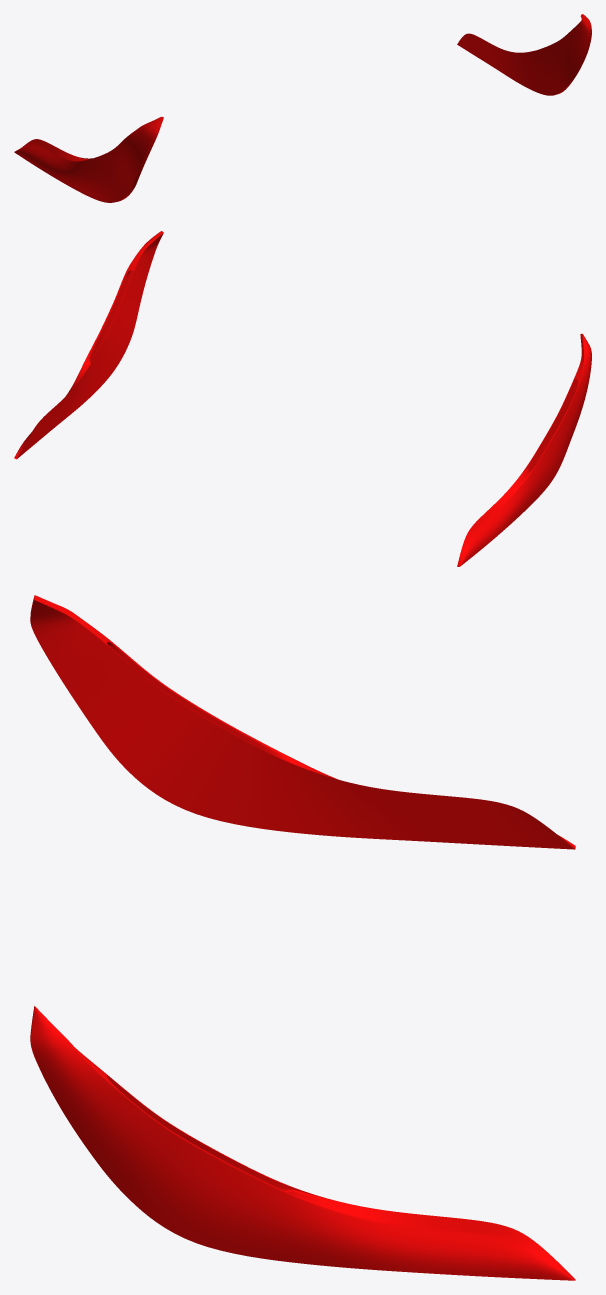
File: MK5doorsidepanels.glb
3 views of the same model, one above another, from view 1: azimuth 30°, elevation 25°; view 2: azimuth 150°, elevation 25°; view 3: azimuth 270°, elevation 25° (orthographic). The views are drawn at different scales.
Parts seen in each view (by area): view 1: Object_31; view 2: Object_31; view 3: Object_31.
Part boxes in pixels (x1,y1,x2,y2): Object_31: (14, 14, 591, 202); Object_31: (14, 231, 591, 566); Object_31: (30, 595, 575, 1280).
Size of the model in its own units: 1.29 by 0.357 by 0.669.
